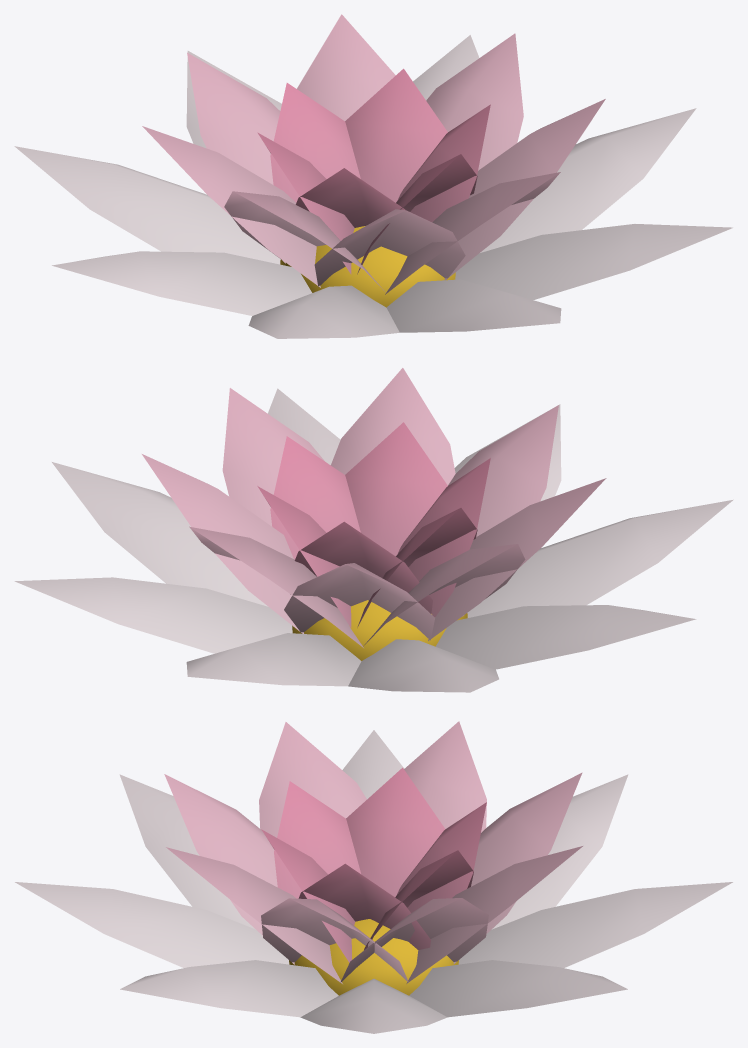
The model's file is WaterLily.fbx.
The picture shows the model from 3 angles, top to bottom: view 1: azimuth 30°, elevation 25°; view 2: azimuth 150°, elevation 25°; view 3: azimuth 270°, elevation 25°; orthographic projection. The views are drawn at different scales.
Parts seen in each view (by area): view 1: WaterLily; view 2: WaterLily; view 3: WaterLily.
Part boxes in pixels (x1,y1,x2,y2): WaterLily: (14, 14, 732, 338); WaterLily: (14, 368, 733, 692); WaterLily: (15, 721, 732, 1033).
Bounding box in the file's own units: 2.44 × 0.7577 × 2.44.
